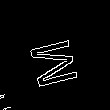M_W: (17, 36, 77, 93)
